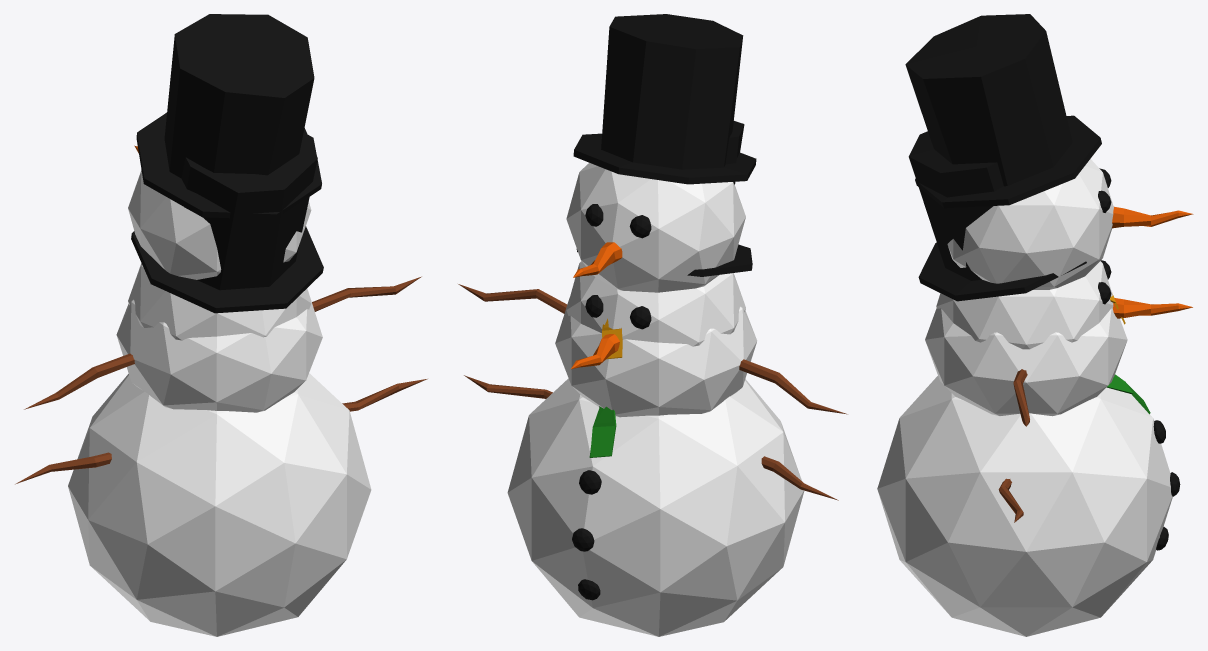
Rendered from Snowman.fbx.
3 renders of one model, left to right at view 1: azimuth 30°, elevation 25°; view 2: azimuth 150°, elevation 25°; view 3: azimuth 270°, elevation 25°, orthographic. The views are drawn at different scales.
Parts seen in each view (by area): view 1: SnowMan_02, SnowMan_01; view 2: SnowMan_02, SnowMan_01; view 3: SnowMan_02, SnowMan_01.
Boxes of the visible parts, x1,y1,x2,y2 form: SnowMan_02: (15, 128, 427, 636); SnowMan_01: (24, 14, 421, 412); SnowMan_02: (464, 121, 838, 636); SnowMan_01: (458, 14, 847, 417); SnowMan_02: (877, 131, 1192, 636); SnowMan_01: (905, 14, 1193, 426).
Size of the model in its own units: 89.82 by 130 by 62.79.
1 material, 1 textured.
